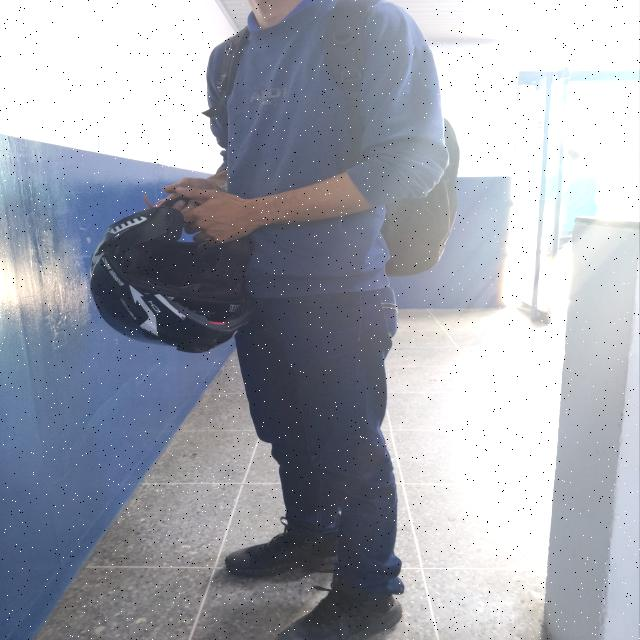pantalon_oscuro: (232, 285, 406, 599)
